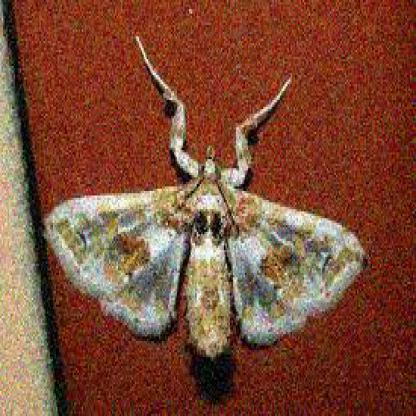leucinodes: (42, 44, 369, 357)
